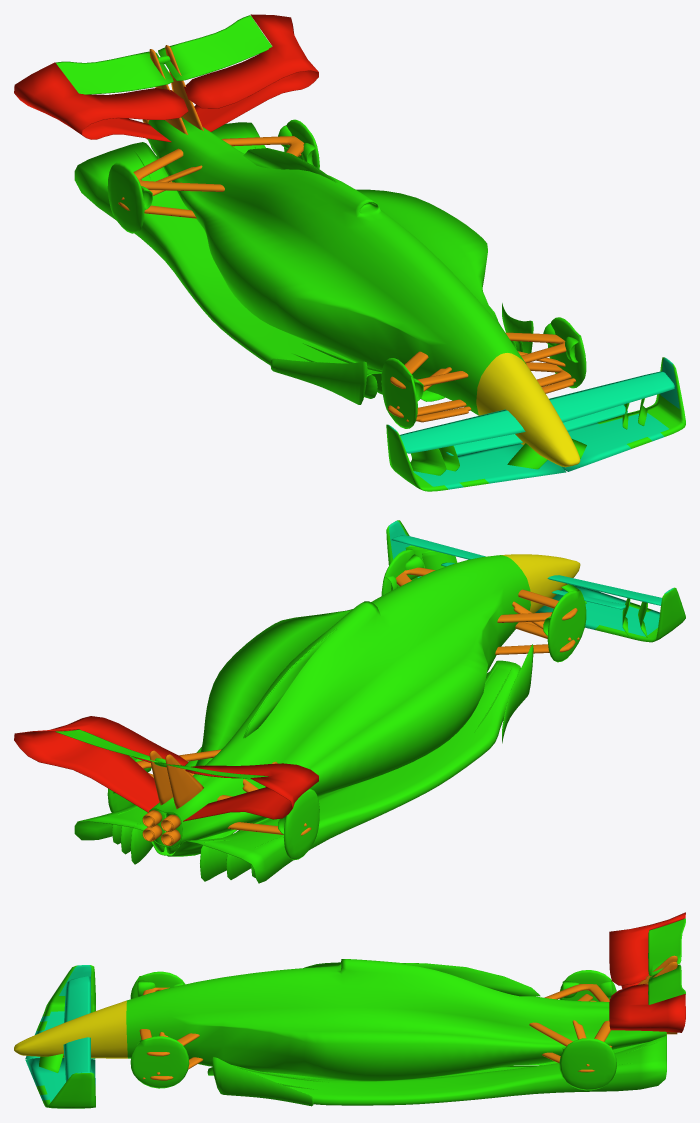
File: Light Car Blockout Body.fbx
3 views of the same model, one above another, from view 1: azimuth 30°, elevation 25°; view 2: azimuth 150°, elevation 25°; view 3: azimuth 270°, elevation 25° (orthographic). The views are drawn at different scales.
Parts seen in each view (by area): view 1: Body; view 2: Body; view 3: Body.
Boxes of the visible parts, x1,y1,x2,y2 form: Body: (14, 14, 685, 491); Body: (14, 520, 685, 883); Body: (14, 912, 685, 1108).
Bounding box in the file's own units: 2.35 × 1.12 × 6.16.
